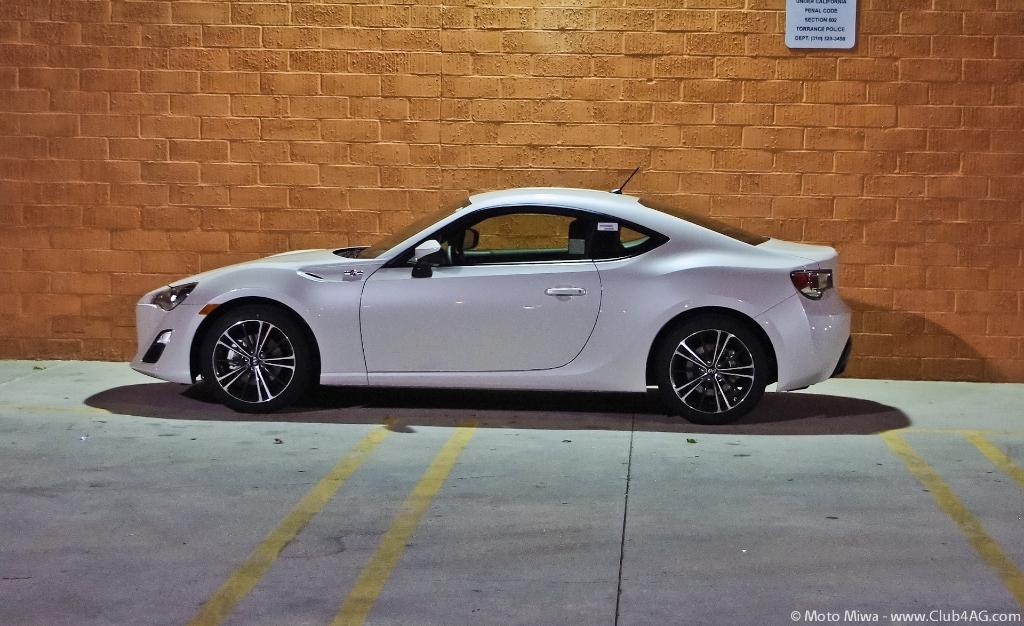Car: (128, 165, 847, 417)
